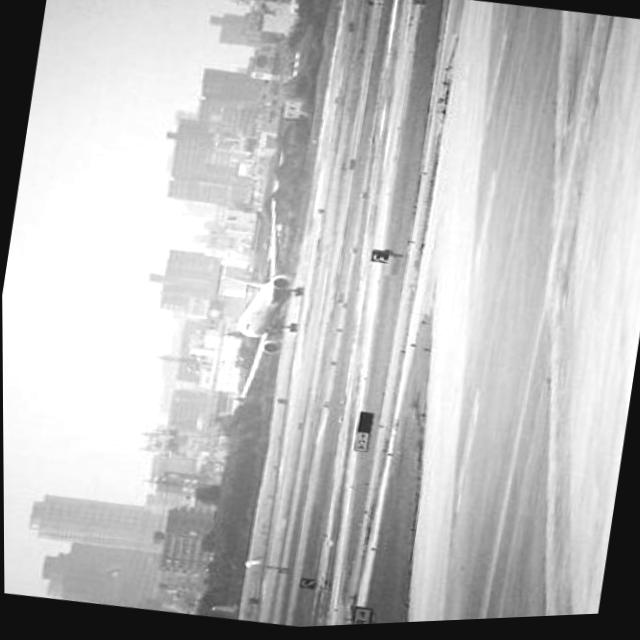aeroplane: (203, 198, 321, 413)
